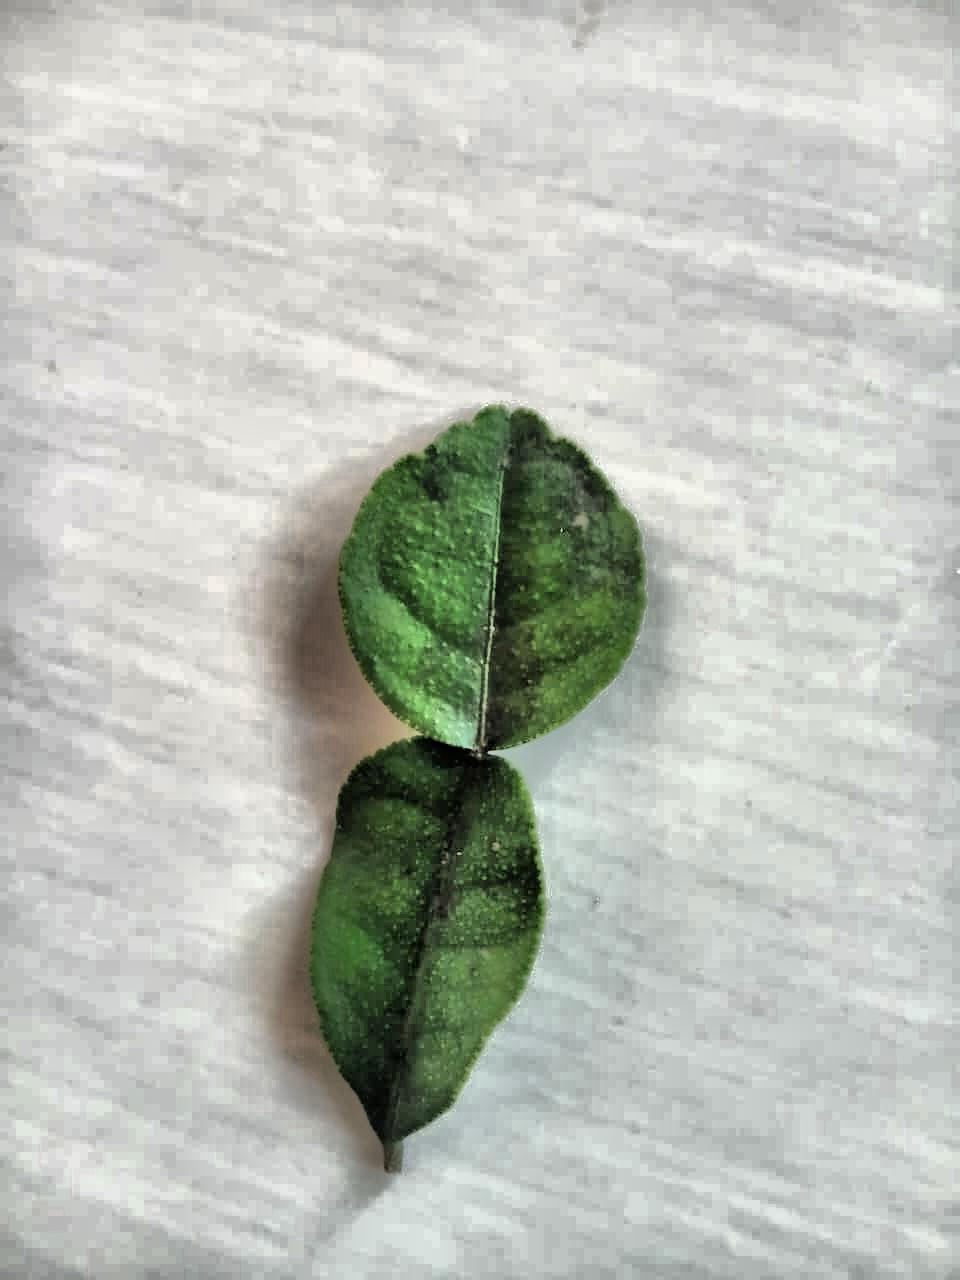daun jeruk: (309, 406, 644, 1171)
